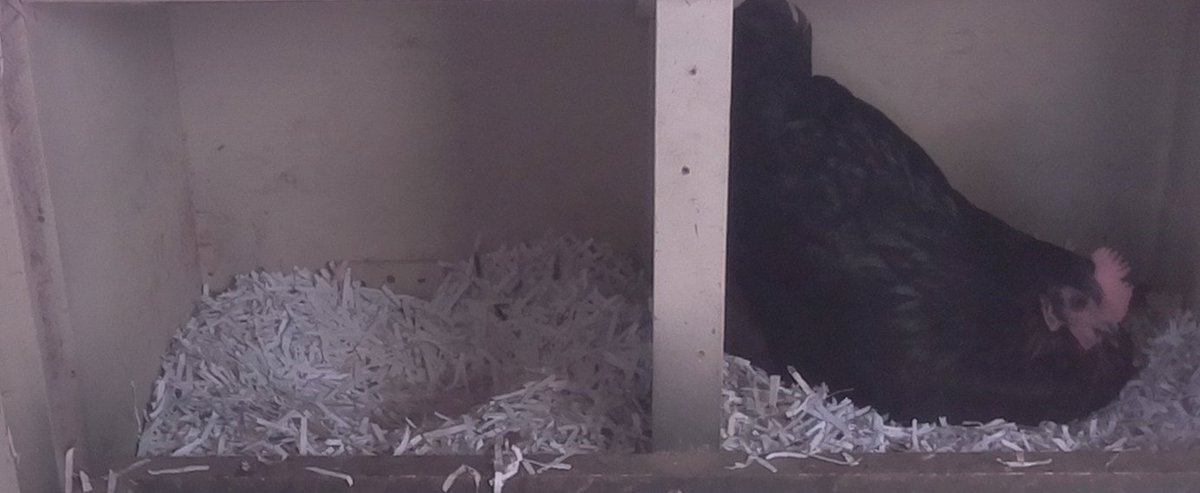hen: (734, 22, 1139, 431)
